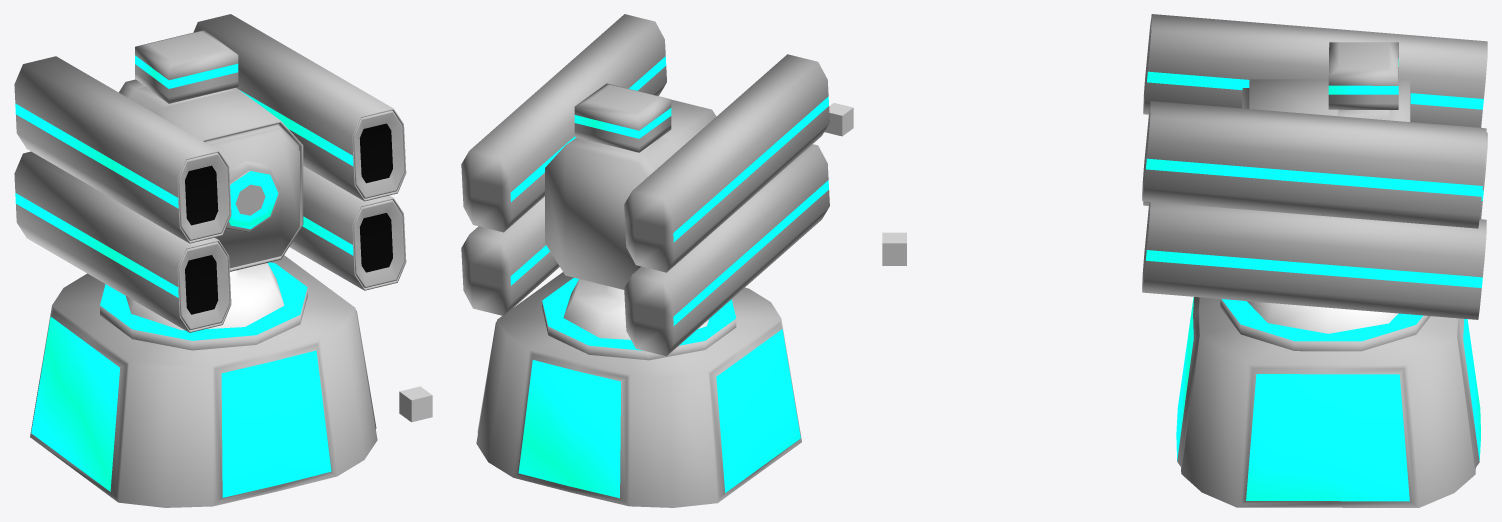
File: turret.glb
3 renders of one model, left to right at view 1: azimuth 30°, elevation 25°; view 2: azimuth 150°, elevation 25°; view 3: azimuth 270°, elevation 25°, orthographic. The views are drawn at different scales.
Visible parts, largest first — view 1: Box001_BaseColor_0, Box001_Rim_0, Box003, Box004, Box002, Box005, Box006, Cylinder004, Cylinder005, Cylinder006, Cube; view 2: Box001_BaseColor_0, Box003, Box001_Rim_0, Box002, Box004, Box005, Box006, Cylinder004, Cylinder005, Cube; view 3: Box005, Box006, Box001_BaseColor_0, Box001_Rim_0, Box003, Box002, Cylinder004, Cylinder005, Cube.
Part boxes in pixels (x1=…): Box001_BaseColor_0: x1=30, y1=255, x2=377, y2=507; Box001_Rim_0: x1=31, y1=316, x2=331, y2=497; Box003: x1=14, y1=56, x2=231, y2=243; Box004: x1=14, y1=151, x2=231, y2=332; Box002: x1=119, y1=30, x2=303, y2=271; Box005: x1=193, y1=14, x2=406, y2=201; Box006: x1=289, y1=166, x2=406, y2=290; Cylinder004: x1=100, y1=262, x2=307, y2=350; Cylinder005: x1=126, y1=263, x2=284, y2=330; Cylinder006: x1=226, y1=161, x2=280, y2=232; Cube: x1=399, y1=386, x2=432, y2=422; Box001_BaseColor_0: x1=476, y1=272, x2=801, y2=507; Box003: x1=624, y1=54, x2=829, y2=272; Box001_Rim_0: x1=518, y1=329, x2=800, y2=498; Box002: x1=545, y1=83, x2=716, y2=289; Box004: x1=624, y1=144, x2=829, y2=356; Box005: x1=461, y1=14, x2=666, y2=232; Box006: x1=461, y1=196, x2=559, y2=315; Cylinder004: x1=542, y1=278, x2=736, y2=360; Cylinder005: x1=563, y1=279, x2=708, y2=339; Cube: x1=824, y1=103, x2=853, y2=136; Box005: x1=1142, y1=101, x2=1486, y2=228; Box006: x1=1142, y1=202, x2=1486, y2=319; Box001_BaseColor_0: x1=1177, y1=297, x2=1479, y2=507; Box001_Rim_0: x1=1176, y1=297, x2=1480, y2=501; Box003: x1=1143, y1=14, x2=1487, y2=127; Box002: x1=1242, y1=42, x2=1410, y2=121; Cylinder004: x1=1220, y1=299, x2=1430, y2=351; Cylinder005: x1=1247, y1=301, x2=1398, y2=333; Cube: x1=882, y1=232, x2=906, y2=265.
Size of the model in its own units: 25.27 by 34.45 by 48.74.
